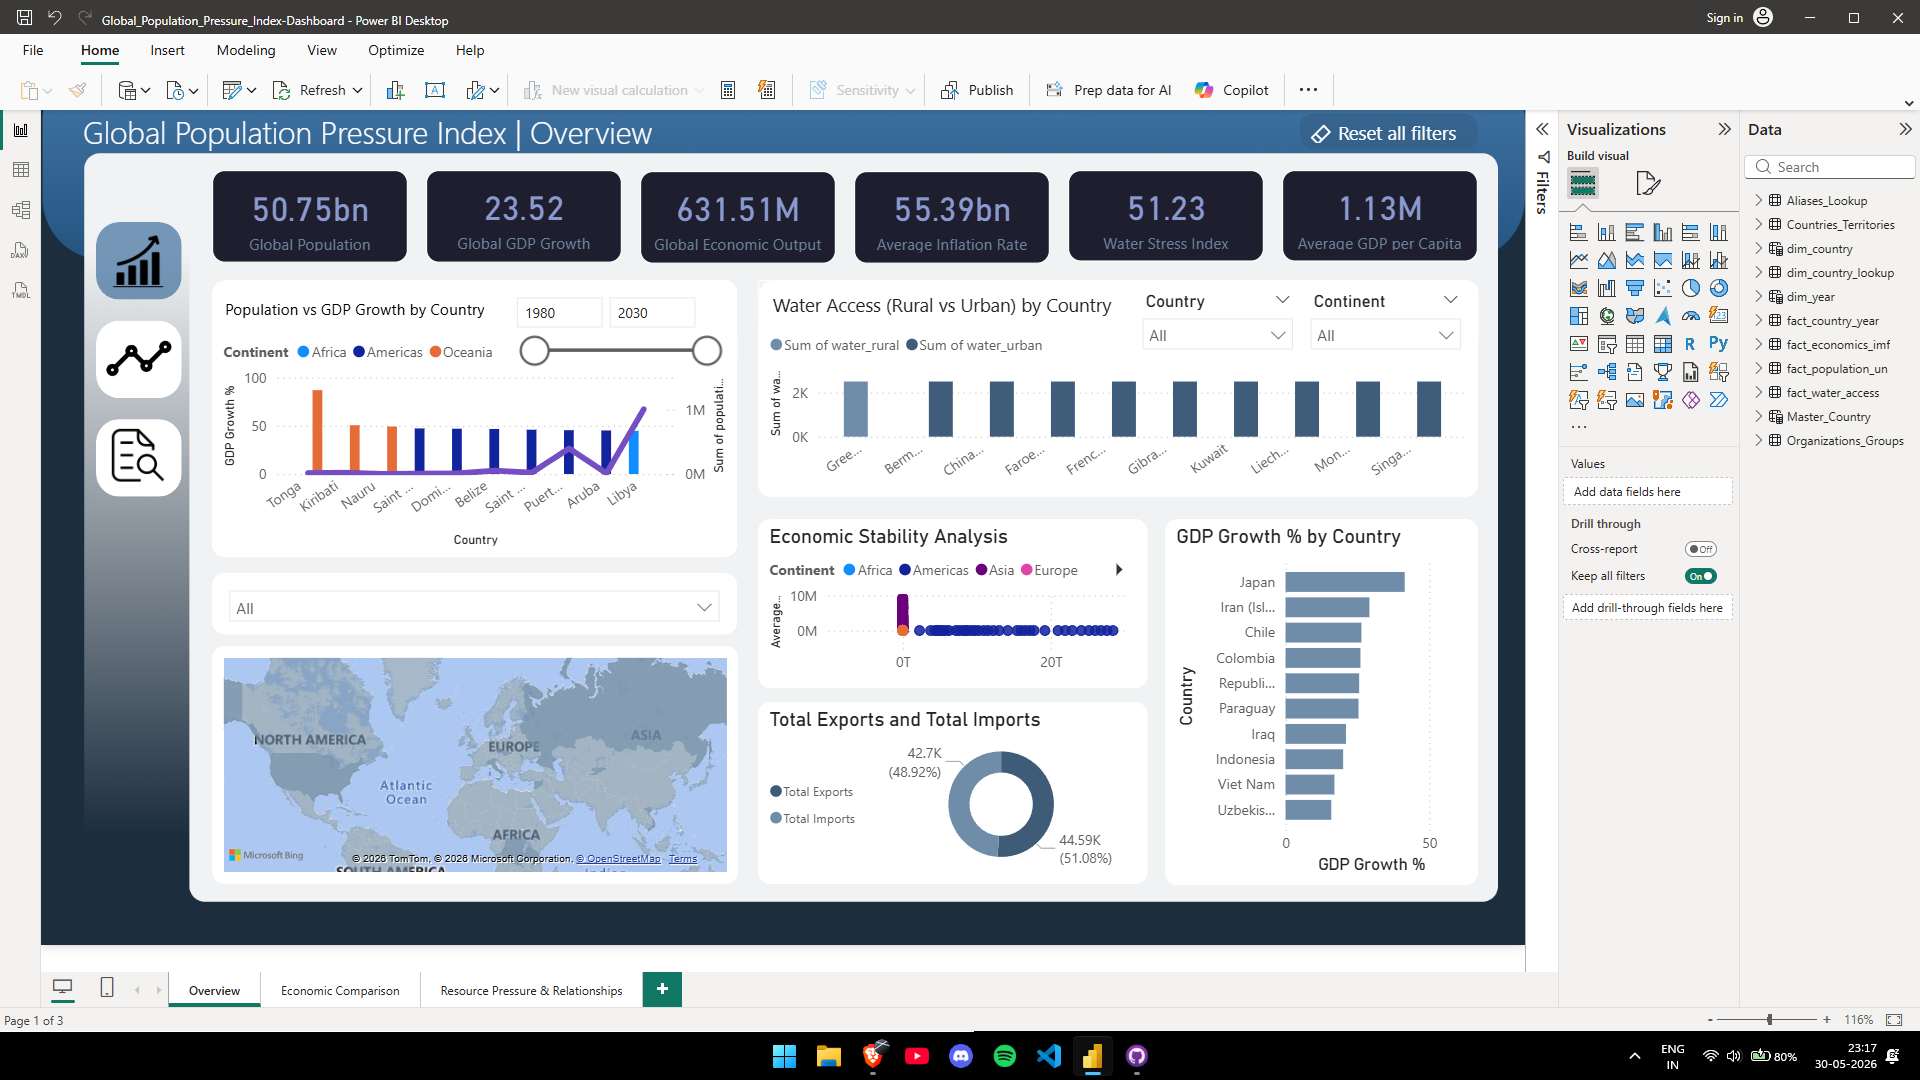

The dashboard page shown, as its layout file describes it:
{"tool":"powerbi","page":{"name":"Overview","canvas":[1280,720],"ordinal":0},"visuals":[{"type":"card","title":"Total Population","fields":{"Values":["fact_population_un.Total Population"]},"box":[147.5,51.8,169,80.2],"z":0},{"type":"card","fields":{"Values":["fact_water_access.Water Stress %"]},"box":[886.1,51.4,169,79.4],"z":1000},{"type":"card","fields":{"Values":["Organizations_Groups.Economic Output"]},"box":[332.1,51.5,169,80],"z":2000},{"type":"donutChart","fields":{"Y":["fact_economics_imf.Total Exports","fact_economics_imf.Total Imports"]},"box":[618.1,510.6,336.4,157.3],"z":3000},{"type":"lineClusteredColumnComboChart","title":"Population vs GDP by Country","fields":{"Category":["Master_Country.Country"],"Y":["fact_economics_imf.GDP Growth %"],"Y2":["Sum(fact_population_un.population)"],"Series":["Countries_Territories.Continent"]},"box":[147.7,183.2,453.2,202.3],"z":4000,"group":"g2"},{"type":"slicer","fields":{"Values":["Master_Country.Country"]},"box":[147.3,399.1,452.7,52.7],"z":5000},{"type":"pageNavigator","box":[47.4,96.6,74.2,239.8],"z":6000},{"type":"filledMap","fields":{"Category":["Master_Country.Country"]},"box":[147.3,462.7,453.6,205.5],"z":7000},{"type":"clusteredColumnChart","title":"Water Access (Rural vs Urban) by Country","fields":{"Category":["Master_Country.Country"],"Y":["Sum(fact_water_access.water_rural)","Sum(fact_water_access.water_urban)"]},"box":[618.4,177.7,621,156.1],"z":8000,"group":"g1"},{"type":"barChart","fields":{"Category":["Master_Country.Country"],"Y":["fact_economics_imf.GDP Growth %"]},"box":[969.5,352.3,269.7,315.5],"z":8000},{"type":"textbox","box":[36,0,635.1,44.7],"z":9000},{"type":"card","fields":{"Values":["Organizations_Groups.Economic Output"]},"box":[516.8,52.5,169,80],"z":10000},{"type":"actionButton","box":[1086.2,3.3,152.9,30.4],"z":11000},{"type":"card","fields":{"Values":["Organizations_Groups.Inflation Pressure"]},"box":[701.4,52.6,169,80],"z":12000},{"type":"scatterChart","title":"Economic Stability Analysis","fields":{"X":["fact_economics_imf.inflation_avg"],"Series":["Countries_Territories.Continent"],"Y":["Avg(fact_economics_imf.gdp_constant)"]},"box":[618.1,352.3,336.4,146.3],"z":13000},{"type":"image","box":[47.3,180,74.5,68.2],"z":14000},{"type":"image","box":[55.5,107.3,57.3,47.3],"z":15000},{"type":"shape","box":[618.2,146.5,331.2,42.4],"z":15000,"group":"g1"},{"type":"textbox","box":[625.8,151.8,302.9,31.8],"z":16000,"group":"g1"},{"type":"image","box":[58.2,259.1,51.8,77.3],"z":16000},{"type":"card","fields":{"Values":["Organizations_Groups.Avg Economic Prosperity"]},"box":[1070.7,51.4,168.7,79.4],"z":17000},{"type":"group","id":"g1","title":"Group 2","box":[618.2,146.5,621.2,187.3],"z":18000},{"type":"shape","box":[147.6,146.5,285.9,46.5],"z":19000,"group":"g2"},{"type":"slicer","fields":{"Values":["fact_economics_imf.year"]},"box":[392.3,146.5,208.2,81.8],"z":20000,"group":"g2"},{"type":"group","id":"g2","title":"Group 1","box":[147.6,146.5,453.3,239],"z":20001},{"type":"slicer","fields":{"Values":["Master_Country.Country"]},"box":[934.7,146.5,160,62.4],"z":21000,"group":"g1"},{"type":"slicer","fields":{"Values":["Countries_Territories.Continent"]},"box":[1079.4,146.5,160,62.4],"z":22000,"group":"g1"}]}

Visuals, with their boxes on the page's 1280x720 design canvas (x1, y1, x2, y2). These are canvas units, not pixel positions in the 1920x1080 screenshot, which may show the page scaled, cropped or inside an application window:
"Total Population" card: locate(148, 52, 316, 132)
card - fact_water_access.Water Stress %: locate(886, 51, 1055, 131)
card - Organizations_Groups.Economic Output: locate(332, 52, 501, 132)
donutChart - fact_economics_imf.Total Exports x fact_economics_imf.Total Imports: locate(618, 511, 954, 668)
"Population vs GDP by Country" lineClusteredColumnComboChart: locate(148, 183, 601, 386)
slicer - Master_Country.Country: locate(147, 399, 600, 452)
pageNavigator: locate(47, 97, 122, 336)
filledMap - Master_Country.Country: locate(147, 463, 601, 668)
"Water Access (Rural vs Urban) by Country" clusteredColumnChart: locate(618, 178, 1239, 334)
barChart - Master_Country.Country x fact_economics_imf.GDP Growth %: locate(970, 352, 1239, 668)
textbox: locate(36, 0, 671, 45)
card - Organizations_Groups.Economic Output: locate(517, 52, 686, 132)
actionButton: locate(1086, 3, 1239, 34)
card - Organizations_Groups.Inflation Pressure: locate(701, 53, 870, 133)
"Economic Stability Analysis" scatterChart: locate(618, 352, 954, 499)
image: locate(47, 180, 122, 248)
image: locate(56, 107, 113, 155)
shape: locate(618, 146, 949, 189)
textbox: locate(626, 152, 929, 184)
image: locate(58, 259, 110, 336)
card - Organizations_Groups.Avg Economic Prosperity: locate(1071, 51, 1239, 131)
"Group 2" group: locate(618, 146, 1239, 334)
shape: locate(148, 146, 434, 193)
slicer - fact_economics_imf.year: locate(392, 146, 600, 228)
"Group 1" group: locate(148, 146, 601, 386)
slicer - Master_Country.Country: locate(935, 146, 1095, 209)
slicer - Countries_Territories.Continent: locate(1079, 146, 1239, 209)
